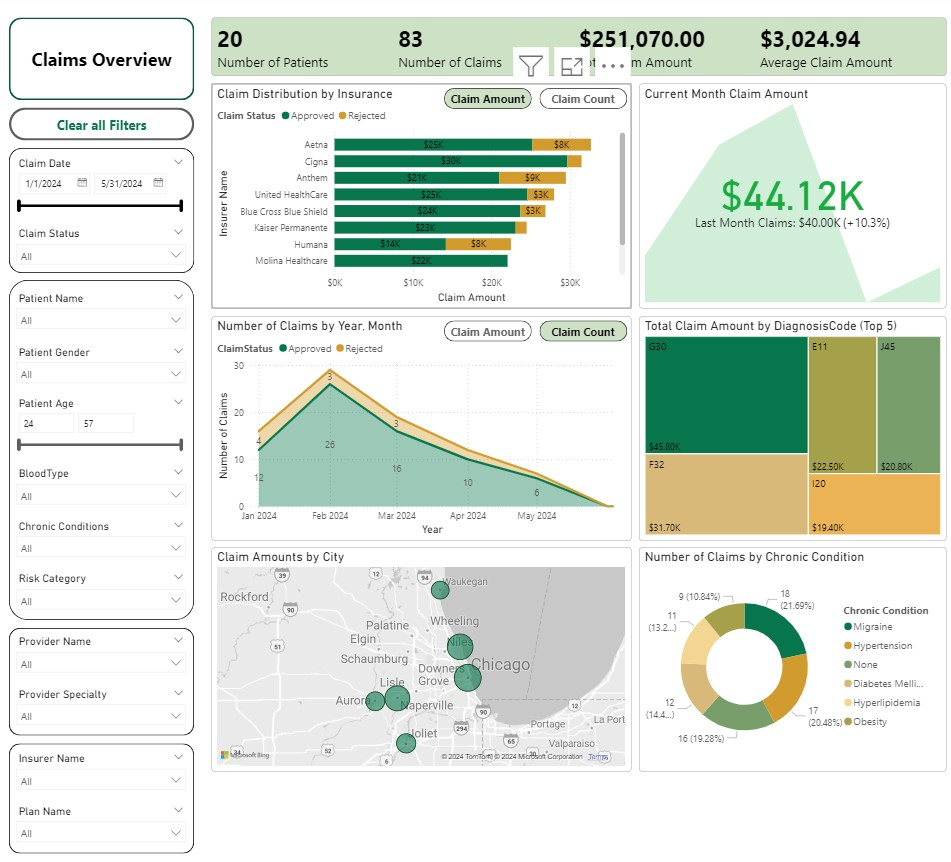

The page's visual inventory and layout, read from the dashboard file:
{"tool":"powerbi","page":{"name":"Claims Overview","canvas":[1280,1170],"ordinal":0},"visuals":[{"type":"shape","box":[15,840,246.7,143.3],"z":0},{"type":"shape","box":[15,993.3,246.7,146.7],"z":1000},{"type":"shape","box":[15,200,247,166.7],"z":2000},{"type":"shape","box":[15,376.7,246.7,453.3],"z":3000},{"type":"map","title":"Claim Amounts by City","fields":{"Category":["dim_patients.Location"],"Size":["Measure Table.Total Claim Amount"]},"box":[285,732,560,300],"z":4000},{"type":"donutChart","fields":{"Category":["dim_patients.ChronicConditions"],"Y":["Measure Table.Number of Claims"]},"box":[855,732,410,300],"z":5000},{"type":"shape","box":[15,25,247,110],"z":6000},{"type":"slicer","fields":{"Values":["Dim_Date.Date"]},"box":[16.7,205,245,95],"z":7000},{"type":"slicer","fields":{"Values":["dim_patients.Gender"]},"box":[16,458.3,245,70],"z":8000},{"type":"slicer","fields":{"Values":["dim_patients.BloodType"]},"box":[16.7,620,245,70],"z":9000},{"type":"slicer","fields":{"Values":["dim_patients.RiskCategory"]},"box":[16,760,245,70],"z":10000},{"type":"slicer","fields":{"Values":["dim_patients.FullName"]},"box":[16,385,245,70],"z":11000},{"type":"slicer","fields":{"Values":["dim_patients.Age"]},"box":[16.7,525,245,95],"z":12000},{"type":"multiRowCard","fields":{"Values":["Measure Table.Total Number of Patients","Measure Table.Number of Visits (Claims)","Measure Table.Total Claim Amount","Measure Table.Average Claim Amount"]},"box":[285,25,980,78],"z":13000},{"type":"slicer","fields":{"Values":["dim_Providers.FullName"]},"box":[16,844,245,70],"z":14000},{"type":"slicer","fields":{"Values":["dim_Insurers.InsurerName"]},"box":[16,1000,245,70],"z":15000},{"type":"barChart","title":"Claim Distribution by Insurance","fields":{"Category":["dim_Insurers.InsurerName"],"Series":["fact_Claims.ClaimStatus"],"Y":["Measure Table.Total Claim Amount"]},"box":[285,113,560,300],"z":17000},{"type":"stackedAreaChart","title":"Number of Claims by Year, Month","fields":{"Y":["Measure Table.Number of Claims"],"Series":["fact_Claims.ClaimStatus"],"Category":["Dim_Date.Date.Variation.Date Hierarchy.Year","Dim_Date.Date.Variation.Date Hierarchy.Month"]},"box":[285,423,560,300],"z":18000},{"type":"slicer","fields":{"Values":["dim_Providers.Specialty"]},"box":[16,913.3,245,70],"z":20000},{"type":"slicer","fields":{"Values":["fact_Claims.ClaimStatus"]},"box":[16,300,245,80],"z":21000},{"type":"treemap","title":"Total Claim Amount by DiagnosisCode (Top 5)","fields":{"Group":["fact_Claims.DiagnosisCode"],"Values":["Measure Table.Total Claim Amount"]},"box":[855,423,410,300],"z":22000},{"type":"kpi","title":"Current Month Claim Amount","fields":{"Indicator":["Measure Table.Total Claim Amount"],"TrendLine":["Dim_Date.Start of Month"],"Goal":["Measure Table.Previous Month Total Claims"]},"box":[855,113.3,410,300],"z":23000},{"type":"slicer","fields":{"Values":["dim_patients.ChronicConditions"]},"box":[16.7,690,245,70],"z":25000},{"type":"slicer","fields":{"Values":["dim_Insurers.PlanName"]},"box":[16,1070,245,70],"z":26000},{"type":"bookmarkNavigator","box":[595,120,245,28.3],"z":28500},{"type":"bookmarkNavigator","box":[595,430,245,28.8],"z":29000},{"type":"actionButton","box":[15,145,247,44],"z":29001}]}

Visuals, with their boxes in screenshot pixels (x1, y1, x2, y2), scaled from the page's 1280x1170 canvas onto the 951x862 screenshot:
shape: {"left": 11, "top": 619, "right": 194, "bottom": 724}
shape: {"left": 11, "top": 732, "right": 194, "bottom": 840}
shape: {"left": 11, "top": 147, "right": 195, "bottom": 270}
shape: {"left": 11, "top": 278, "right": 194, "bottom": 612}
"Claim Amounts by City" map: {"left": 212, "top": 539, "right": 628, "bottom": 760}
donutChart - dim_patients.ChronicConditions x Measure Table.Number of Claims: {"left": 635, "top": 539, "right": 940, "bottom": 760}
shape: {"left": 11, "top": 18, "right": 195, "bottom": 99}
slicer - Dim_Date.Date: {"left": 12, "top": 151, "right": 194, "bottom": 221}
slicer - dim_patients.Gender: {"left": 12, "top": 338, "right": 194, "bottom": 389}
slicer - dim_patients.BloodType: {"left": 12, "top": 457, "right": 194, "bottom": 508}
slicer - dim_patients.RiskCategory: {"left": 12, "top": 560, "right": 194, "bottom": 612}
slicer - dim_patients.FullName: {"left": 12, "top": 284, "right": 194, "bottom": 335}
slicer - dim_patients.Age: {"left": 12, "top": 387, "right": 194, "bottom": 457}
multiRowCard - Measure Table.Total Number of Patients x Measure Table.Number of Visits (Claims): {"left": 212, "top": 18, "right": 940, "bottom": 76}
slicer - dim_Providers.FullName: {"left": 12, "top": 622, "right": 194, "bottom": 673}
slicer - dim_Insurers.InsurerName: {"left": 12, "top": 737, "right": 194, "bottom": 788}
"Claim Distribution by Insurance" barChart: {"left": 212, "top": 83, "right": 628, "bottom": 304}
"Number of Claims by Year, Month" stackedAreaChart: {"left": 212, "top": 312, "right": 628, "bottom": 533}
slicer - dim_Providers.Specialty: {"left": 12, "top": 673, "right": 194, "bottom": 724}
slicer - fact_Claims.ClaimStatus: {"left": 12, "top": 221, "right": 194, "bottom": 280}
"Total Claim Amount by DiagnosisCode (Top 5)" treemap: {"left": 635, "top": 312, "right": 940, "bottom": 533}
"Current Month Claim Amount" kpi: {"left": 635, "top": 83, "right": 940, "bottom": 304}
slicer - dim_patients.ChronicConditions: {"left": 12, "top": 508, "right": 194, "bottom": 560}
slicer - dim_Insurers.PlanName: {"left": 12, "top": 788, "right": 194, "bottom": 840}
bookmarkNavigator: {"left": 442, "top": 88, "right": 624, "bottom": 109}
bookmarkNavigator: {"left": 442, "top": 317, "right": 624, "bottom": 338}
actionButton: {"left": 11, "top": 107, "right": 195, "bottom": 139}
